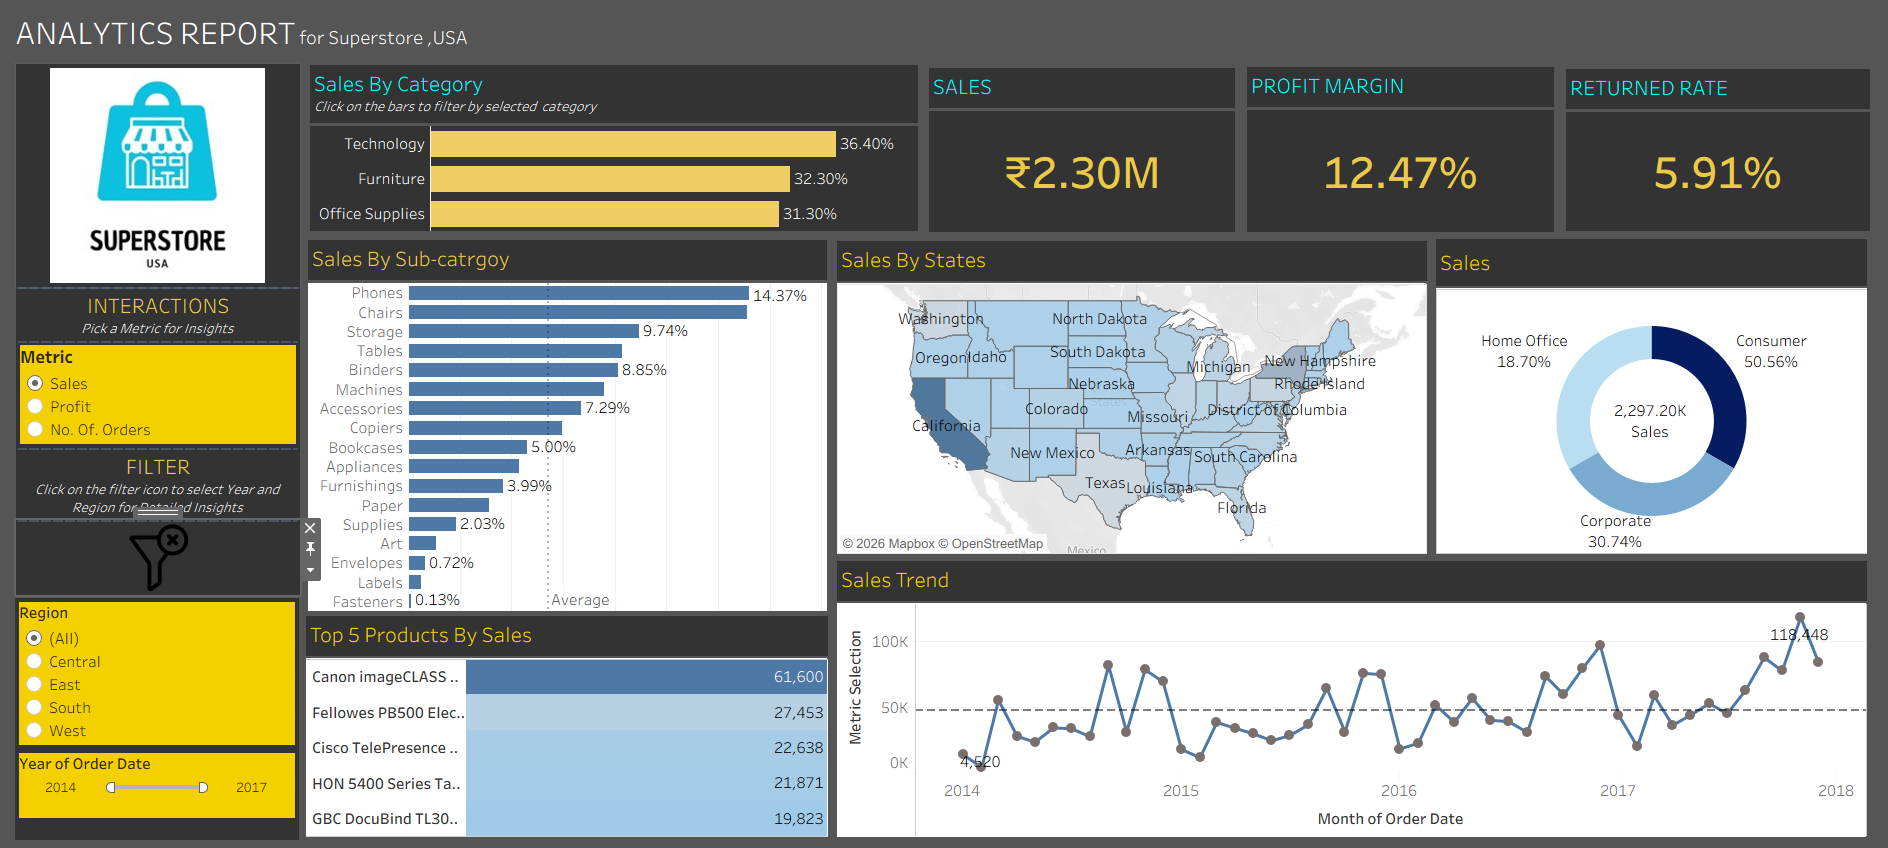

The page's visual inventory and layout, read from the dashboard file:
{"tool":"tableau","page":{"name":"Dashboard","canvas":[1000,1000],"units":"permille","ordinal":0},"visuals":[{"type":"title","box":[4.2,9.4,991.5,57.6]},{"type":"image","param":"Image/Picture1.jpg","box":[8.5,75.2,150.2,262]},{"type":"worksheet","title":"Sales By category","mark":"Automatic","rows":["Category"],"cols":["Calculation_0205099812716549"],"box":[164.2,76.4,322.3,195.1]},{"type":"worksheet","title":"PROFIT MARGIN KPI","mark":"Text","box":[660.2,78.7,163,193.9]},{"type":"worksheet","title":"SALES KPI","mark":"Text","box":[491.9,79.9,162.3,192.7]},{"type":"worksheet","title":"RETURNED RATE KPI","mark":"Text","box":[829.2,81.1,161.1,190.4]},{"type":"worksheet","title":"Sales By Segmaent","mark":"Pie","cols":["Calculation_1024511016902666","Calculation_1024511017037836"],"box":[760.4,280.9,228.7,370.2]},{"type":"worksheet","title":"Sales By Sub-catrgoy","mark":"Automatic","rows":["Sub-Category"],"cols":["Calculation_0205099812716549"],"box":[163,282,275.2,436]},{"type":"worksheet","title":"Sales By State","mark":"Automatic","box":[443.6,283.2,312.6,367.8]},{"type":"text","box":[8.5,337.2,150.2,63.5]},{"type":"parameter","param":"[Parameters].[Parameter 0205099812315140]","box":[8.5,400.7,150.2,125.7]},{"type":"text","box":[8.5,526.4,150.2,84.6]},{"type":"dashboard-object","box":[8.5,611,150.2,88.1]},{"type":"worksheet","title":"Sales Trend","mark":"Line","rows":["Calculation_0205099812716549","Calculation_0205099812716549"],"cols":["Order Date"],"box":[443.6,659.2,545.6,324.3]},{"type":"filter","title":"PROFIT MARGIN KPI","param":"[federated.1xr0j800zpza1u1g43qle0e614ba].[none:Region:nk]","box":[7.9,702.7,150.2,177.4]},{"type":"worksheet","title":"Top 5 Products","mark":"Automatic","rows":["Product Name"],"box":[162.3,723.9,276.4,259.7]},{"type":"filter","title":"Sales Trend","param":"[federated.1xr0j800zpza1u1g43qle0e614ba].[tyr:Order Date:qk]","box":[7.9,880.1,150.2,85.8]}]}

Visuals, with their boxes on the dashboard's canvas, which has no fixed pixel size, in thousandths of its width and height (x1, y1, x2, y2). These are canvas units, not pixel positions in the 1888x848 screenshot, which may show the page scaled, cropped or inside an application window:
title: {"left": 4, "top": 9, "right": 996, "bottom": 67}
image: {"left": 8, "top": 75, "right": 159, "bottom": 337}
"Sales By category" worksheet: {"left": 164, "top": 76, "right": 486, "bottom": 272}
"PROFIT MARGIN KPI" worksheet (Text marks): {"left": 660, "top": 79, "right": 823, "bottom": 273}
"SALES KPI" worksheet (Text marks): {"left": 492, "top": 80, "right": 654, "bottom": 273}
"RETURNED RATE KPI" worksheet (Text marks): {"left": 829, "top": 81, "right": 990, "bottom": 272}
"Sales By Segmaent" worksheet (Pie marks): {"left": 760, "top": 281, "right": 989, "bottom": 651}
"Sales By Sub-catrgoy" worksheet: {"left": 163, "top": 282, "right": 438, "bottom": 718}
"Sales By State" worksheet: {"left": 444, "top": 283, "right": 756, "bottom": 651}
text: {"left": 8, "top": 337, "right": 159, "bottom": 401}
parameter: {"left": 8, "top": 401, "right": 159, "bottom": 526}
text: {"left": 8, "top": 526, "right": 159, "bottom": 611}
dashboard-object: {"left": 8, "top": 611, "right": 159, "bottom": 699}
"Sales Trend" worksheet (Line marks): {"left": 444, "top": 659, "right": 989, "bottom": 984}
"PROFIT MARGIN KPI" filter: {"left": 8, "top": 703, "right": 158, "bottom": 880}
"Top 5 Products" worksheet: {"left": 162, "top": 724, "right": 439, "bottom": 984}
"Sales Trend" filter: {"left": 8, "top": 880, "right": 158, "bottom": 966}
